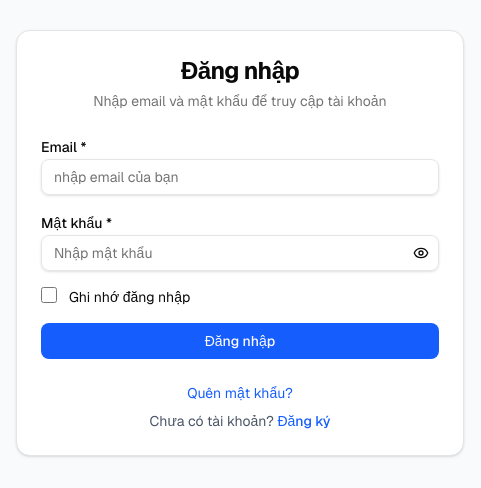
Test case: LoginPage › validates email field
In the field labelled "Email *": (240, 177) [41,159,439,195], type "invalid-email"
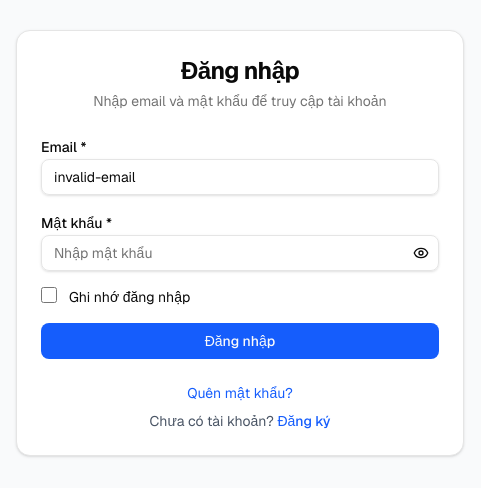
Click the button "Đăng nhập": (240, 341) [41,323,439,359]
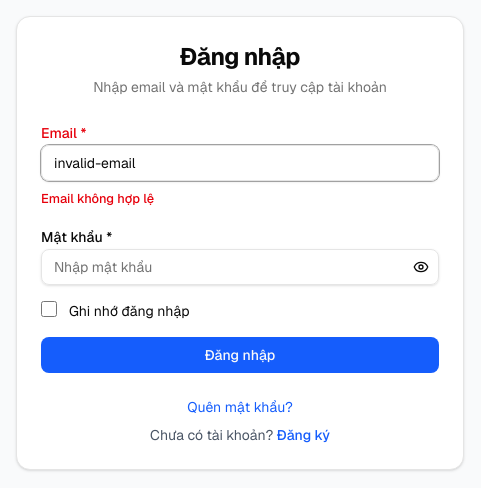
Check: the text "Email không hợp lệ" is shown, box [41,190,154,207]
